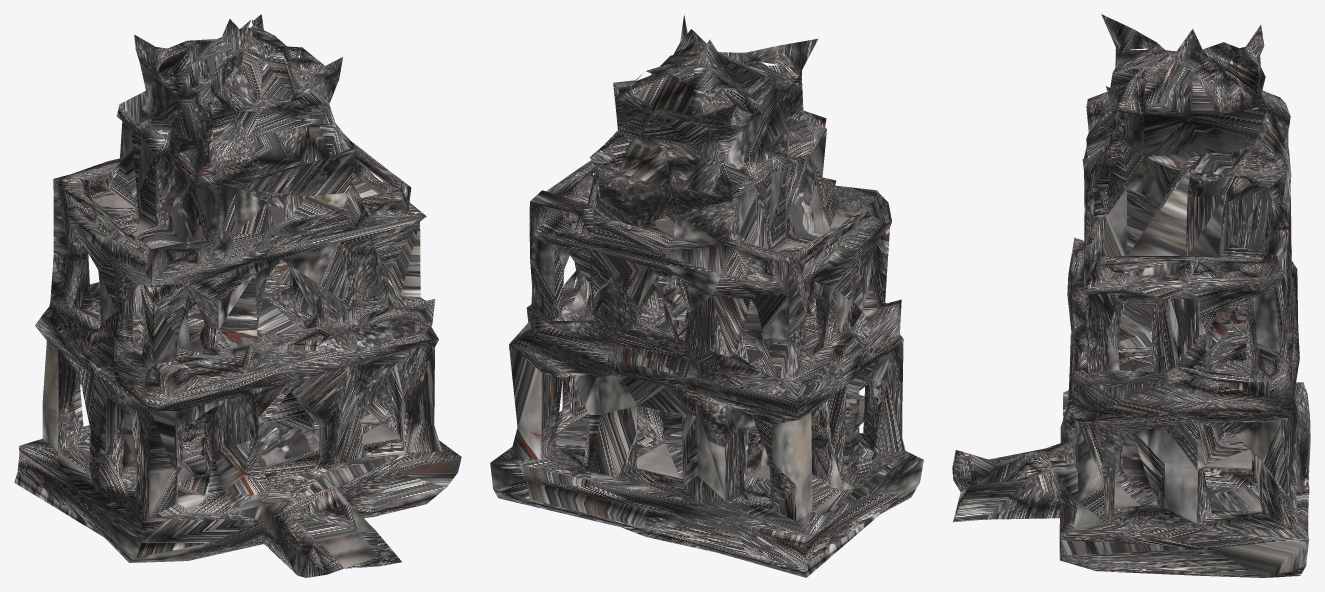
Rendered from thap-rua.glb.
3 views of the same model, side by side, from view 1: azimuth 30°, elevation 25°; view 2: azimuth 150°, elevation 25°; view 3: azimuth 270°, elevation 25° (orthographic). The views are drawn at different scales.
Bounding box in the file's own units: 0.7094 × 0.9782 × 0.6783.
Materials: 1 (1 with a texture image).
